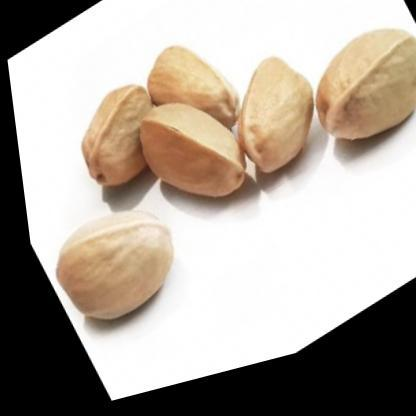pistachio: (131, 109, 249, 206), (323, 31, 416, 152), (57, 225, 174, 312), (233, 59, 318, 177), (76, 85, 157, 181), (147, 40, 238, 122)
